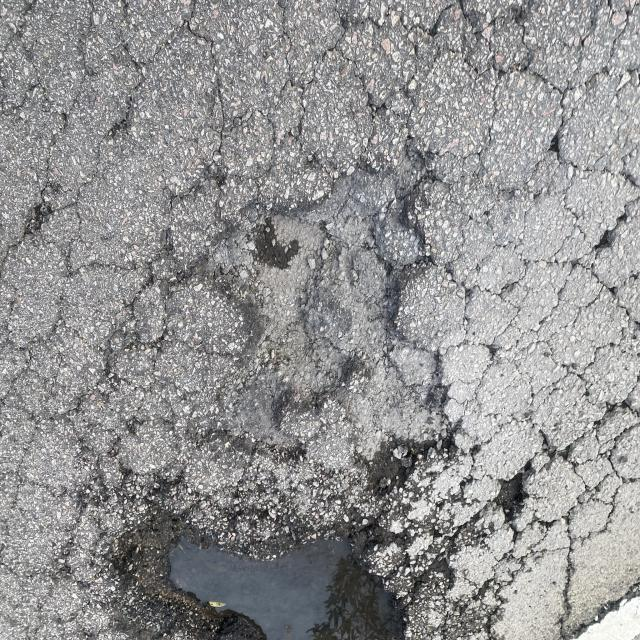pothole: (117, 64, 443, 449), (96, 414, 422, 640)
